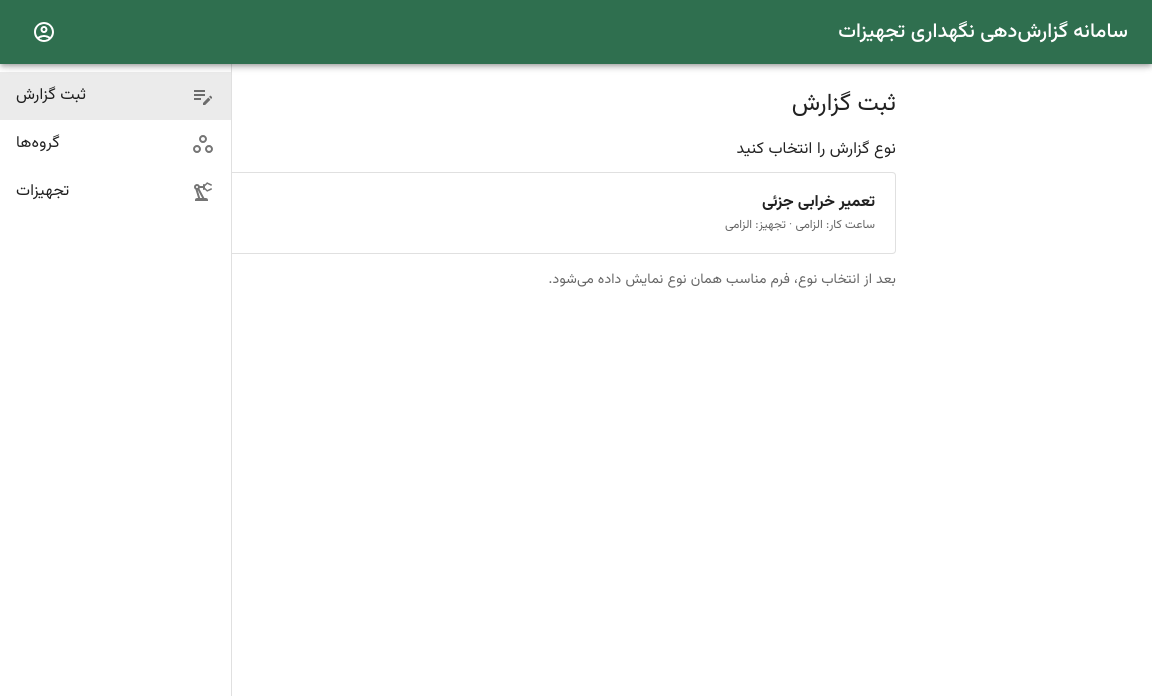
Scenario: drafts and heartbeat › the manual button saves the draft to the server at once and shows the status
The width and height of the screenshot is (1152, 696).
Click the radio button labelled "تعمیر خرابی جزئی ساعت کار: الزامی · تجهیز: الزامی" at [818, 203], box [85, 185, 883, 241]
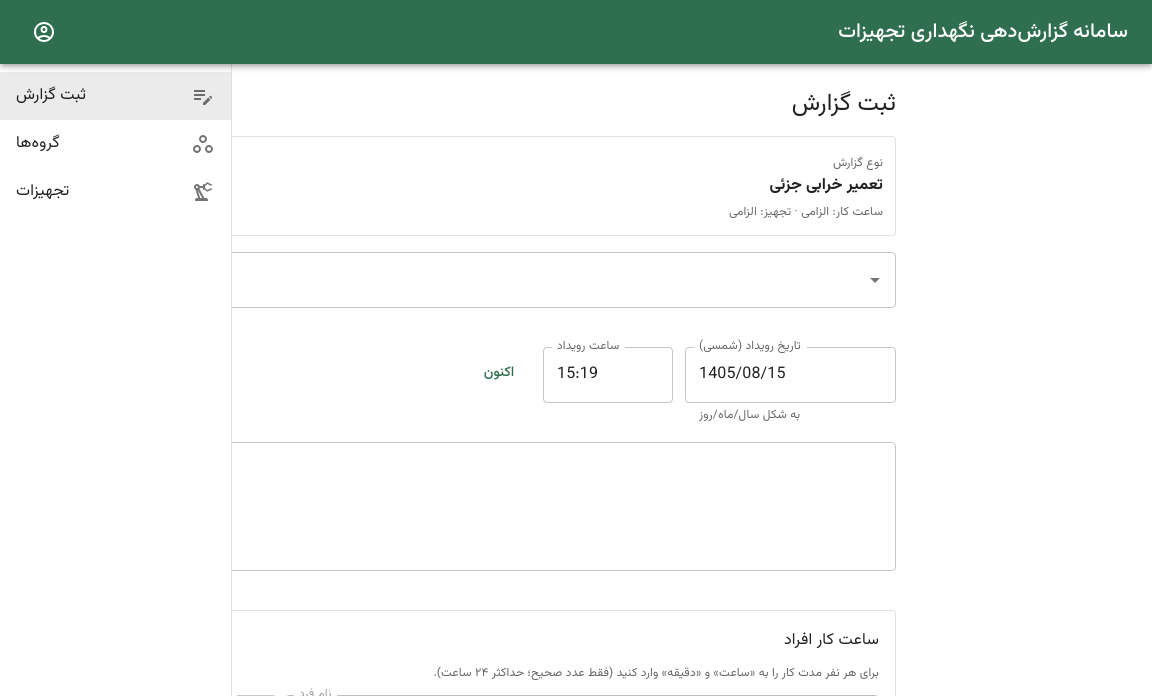
Type "شروع شرح" into the text box labelled "شرح گزارش" at [460, 506], box [38, 458, 882, 554]
(page scrolled)
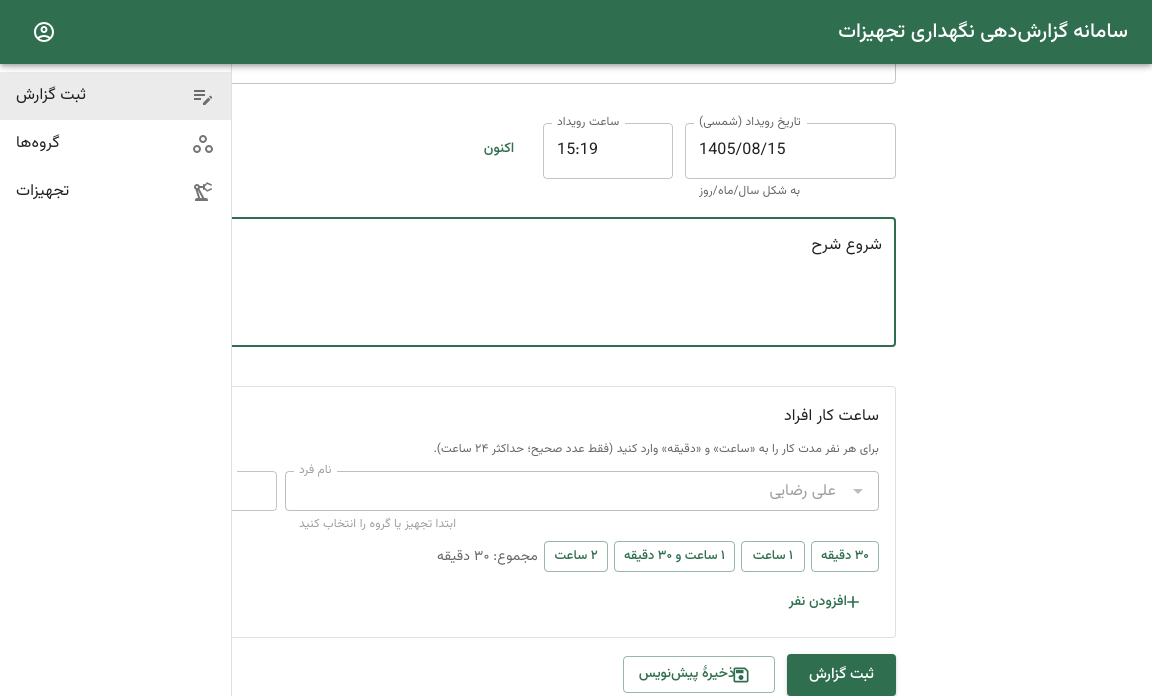
Click the button "ذخیرهٔ پیش‌نویس" at [699, 675], box [623, 656, 775, 693]
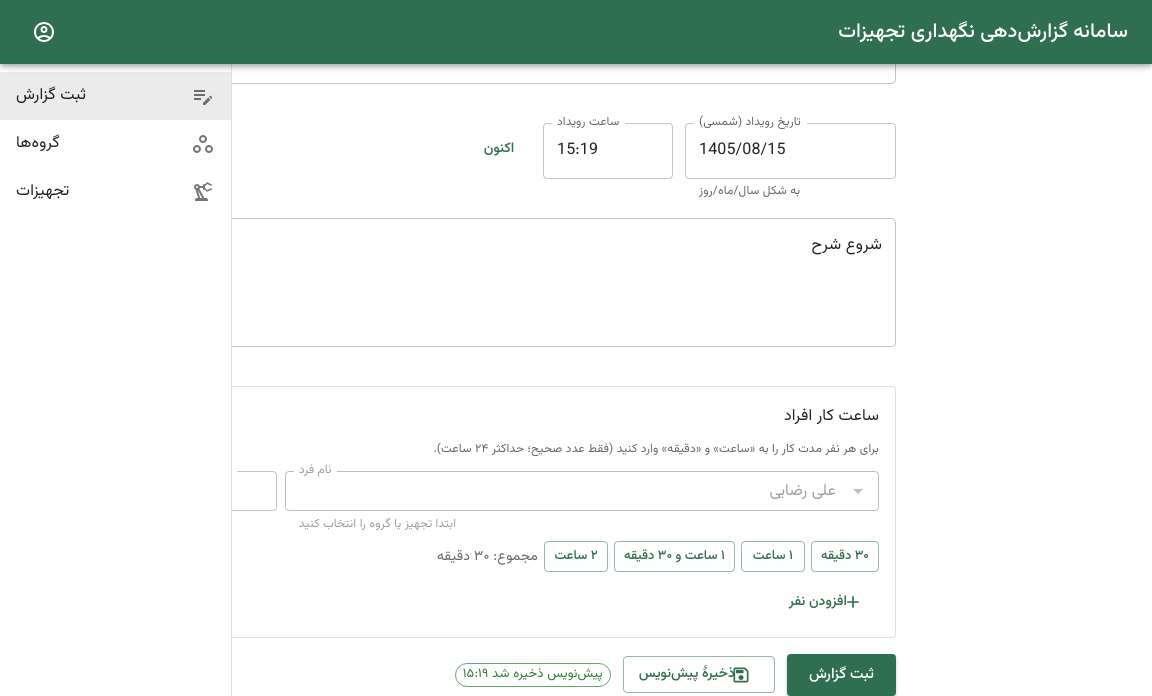
Expected: the text "پیش‌نویس ذخیره شد ۱۵:۱۹" is shown, [456, 665, 610, 684]
